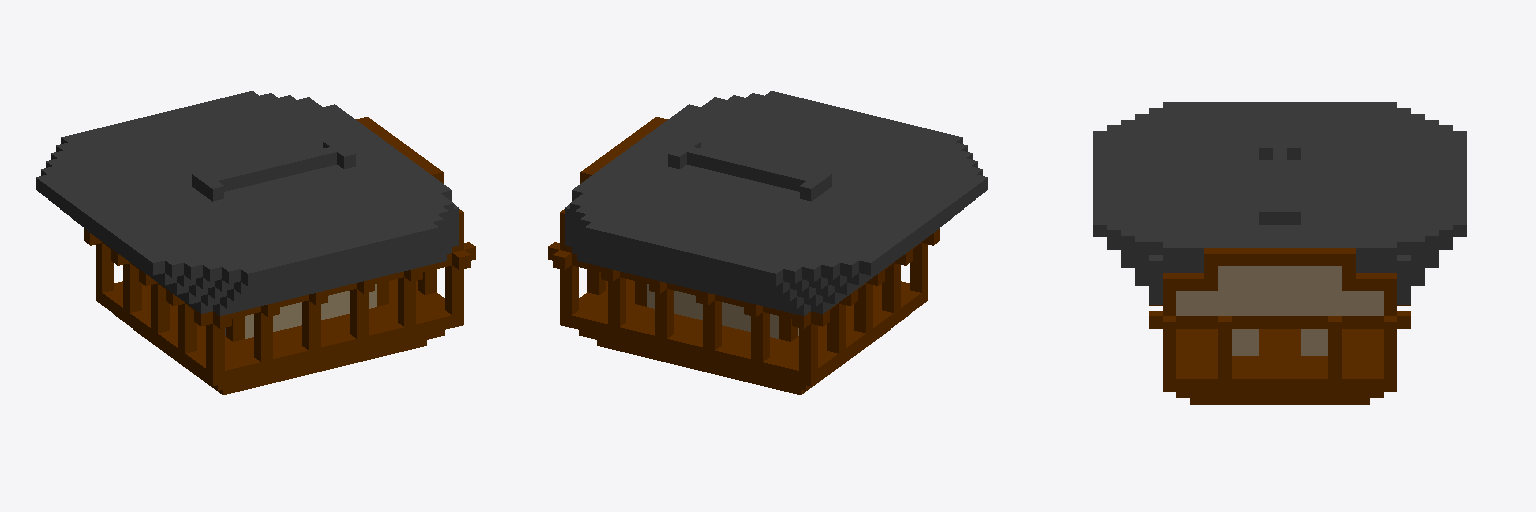
3 renders of one model, left to right at view 1: azimuth 30°, elevation 25°; view 2: azimuth 150°, elevation 25°; view 3: azimuth 270°, elevation 25°, orthographic.
Size of the model in its own units: 27 by 14 by 27.
Materials: 1 (1 with a texture image).